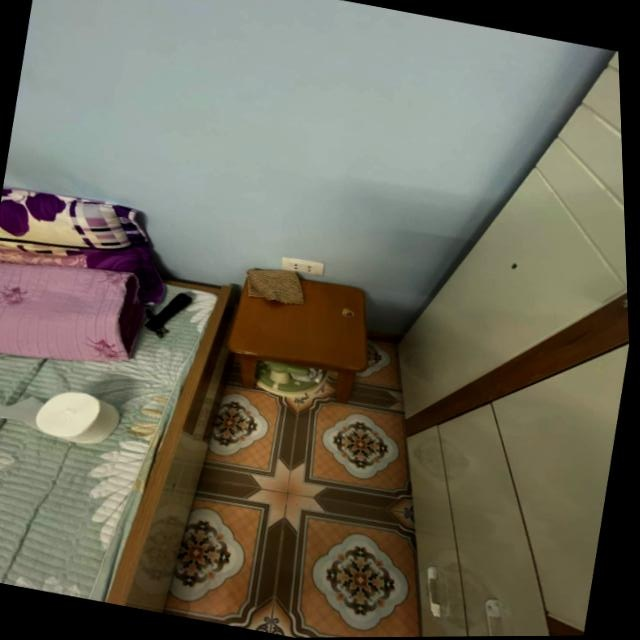outlet: (278, 255, 325, 278)
